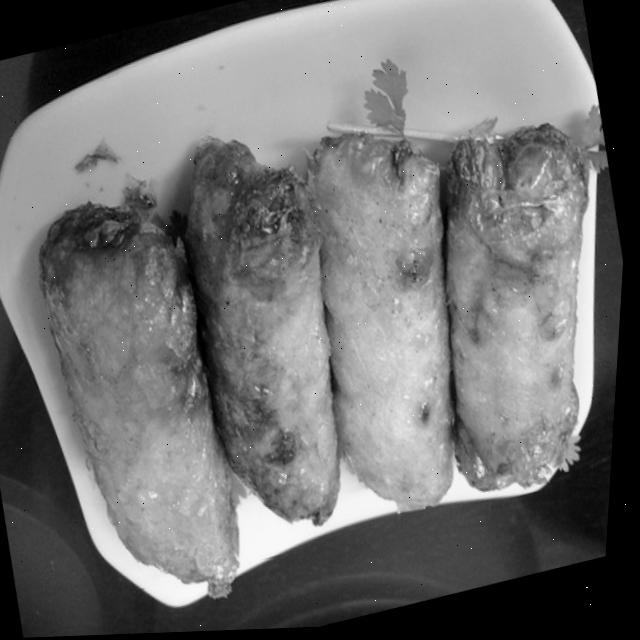炸货点心: (0, 50, 637, 639)
